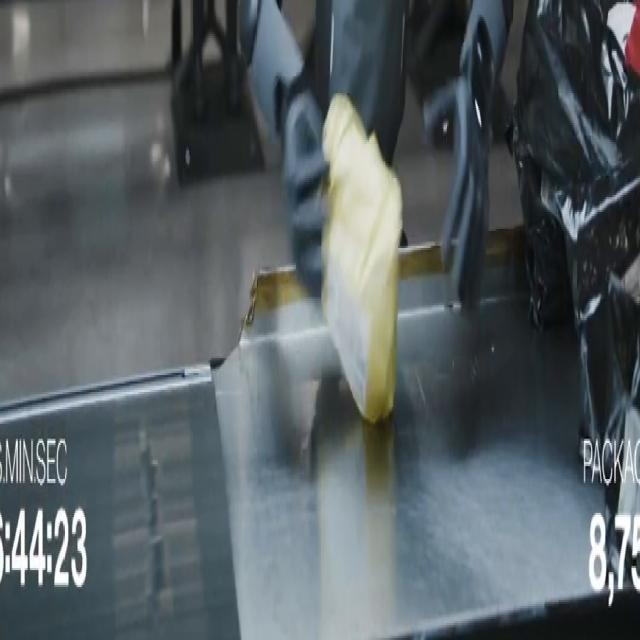package: (508, 0, 639, 447), (508, 0, 639, 438), (508, 0, 639, 328), (322, 96, 401, 423), (602, 257, 639, 582)
